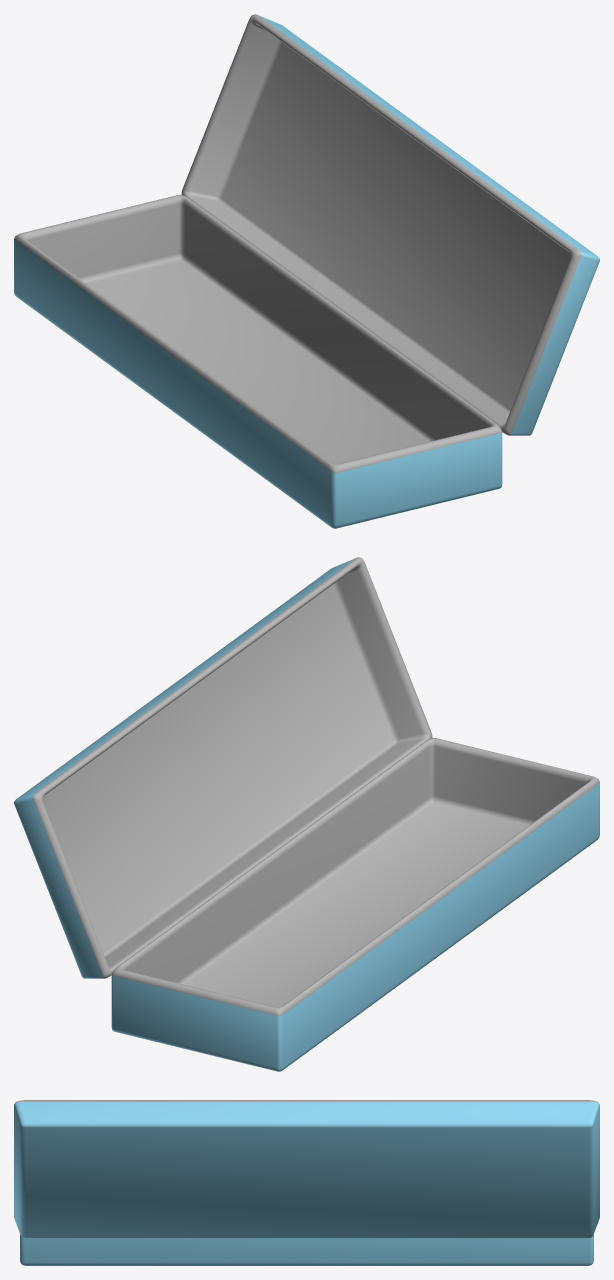
Rendered from pencil case open.fbx.
3 views of the same model, one above another, from view 1: azimuth 30°, elevation 25°; view 2: azimuth 150°, elevation 25°; view 3: azimuth 270°, elevation 25° (orthographic). The views are drawn at different scales.
Visible parts, largest first — view 1: pencil case open; view 2: pencil case open; view 3: pencil case open.
Boxes of the visible parts, box(x1,y1,x2,y2) form: pencil case open: box(14, 14, 599, 528); pencil case open: box(14, 557, 599, 1071); pencil case open: box(14, 1100, 599, 1265).
Bounding box in the file's own units: 96.41 × 76.11 × 204.
